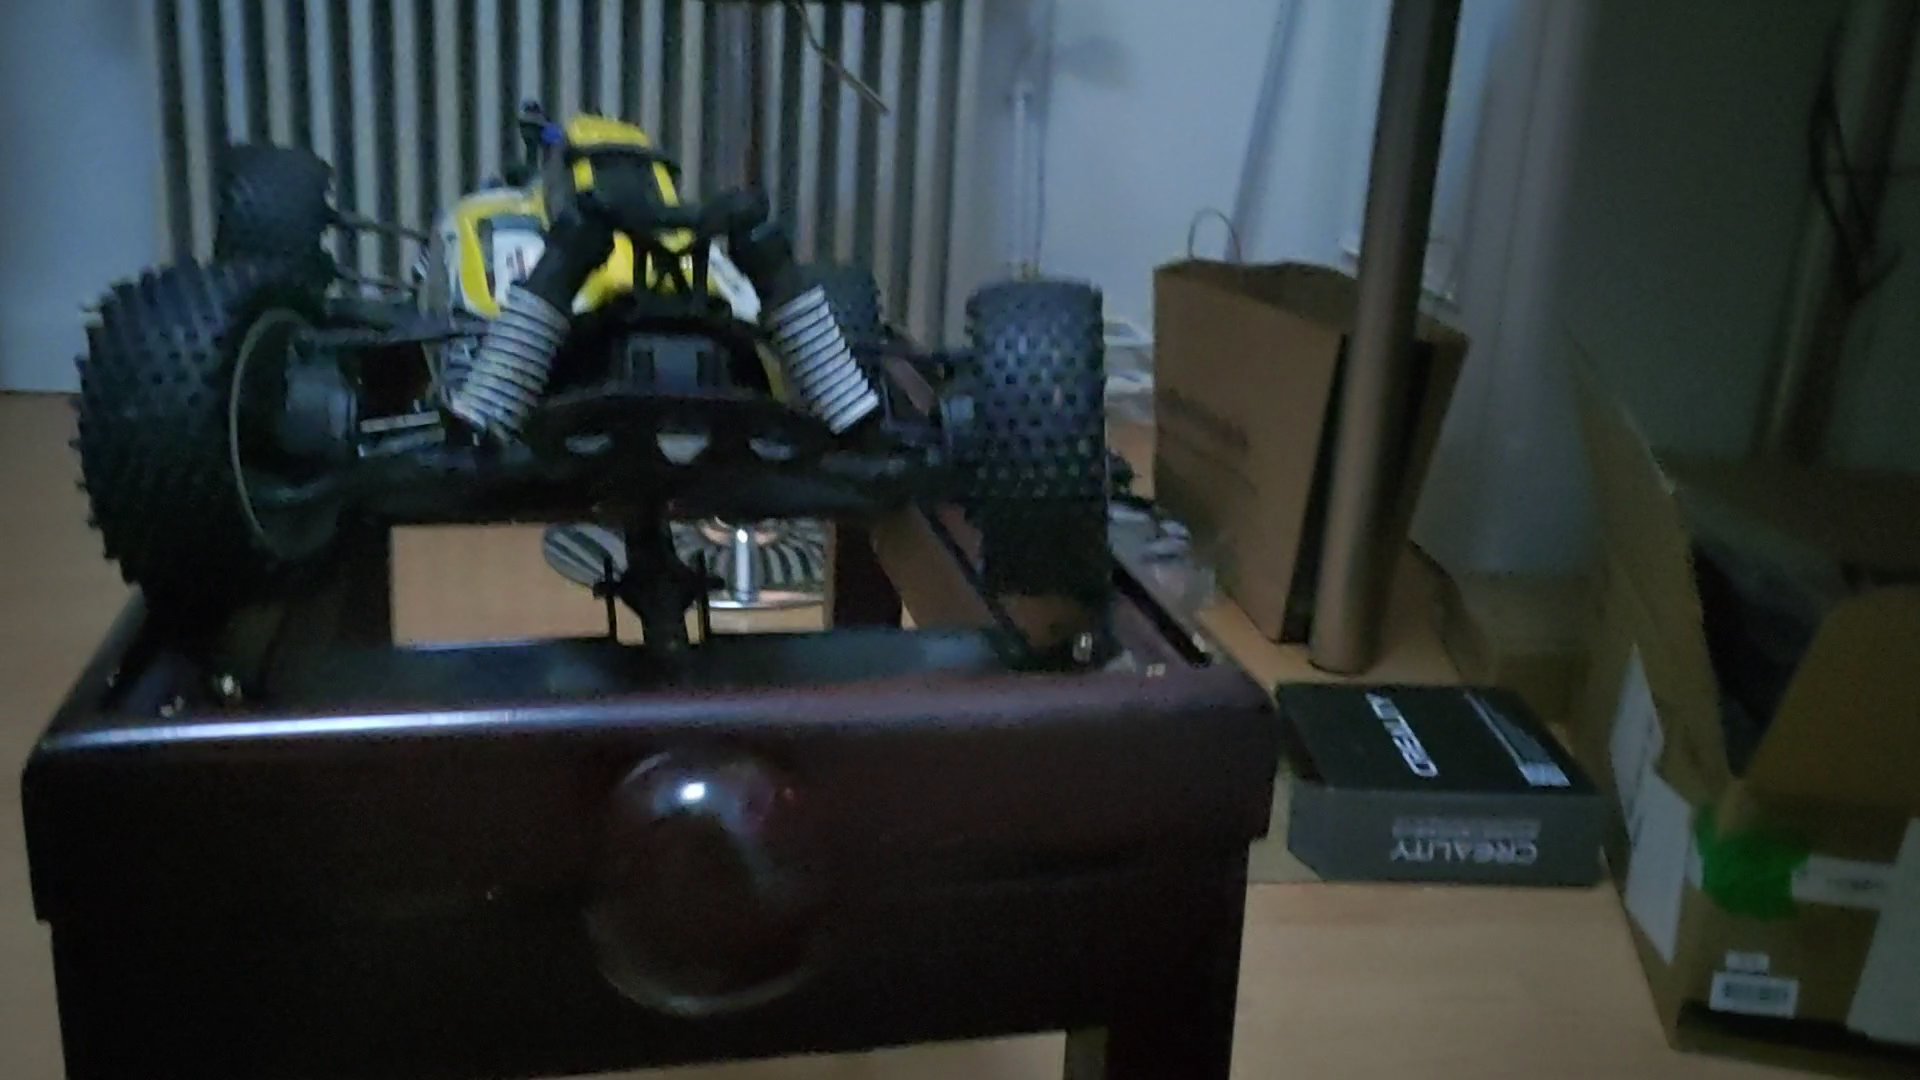buggy: (73, 109, 1106, 600)
